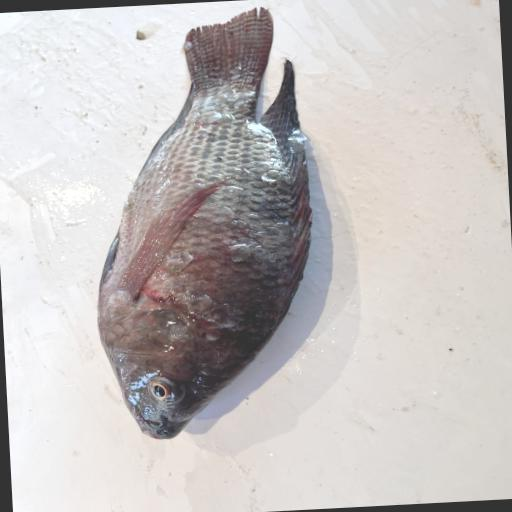Tilapia: (81, 5, 325, 445)
